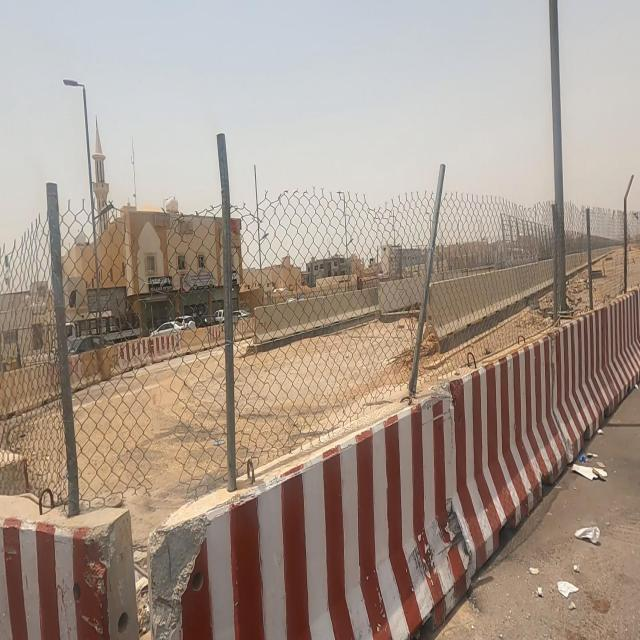debris: (486, 528, 617, 640), (536, 400, 632, 537), (538, 496, 632, 584)
